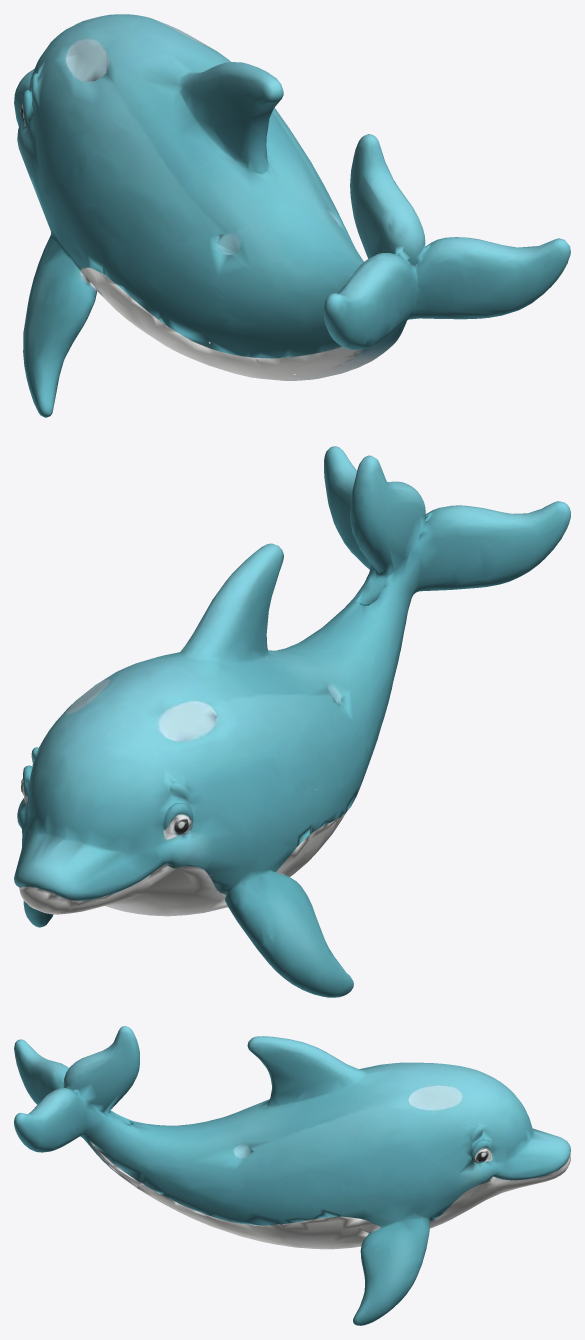
The model's file is delfin.glb.
3 views of the same model, one above another, from view 1: azimuth 30°, elevation 25°; view 2: azimuth 150°, elevation 25°; view 3: azimuth 270°, elevation 25° (orthographic). The views are drawn at different scales.
Parts seen in each view (by area): view 1: tripo_node_f25e41e3-0129-4c51-acdd-15e4373f0f35; view 2: tripo_node_f25e41e3-0129-4c51-acdd-15e4373f0f35; view 3: tripo_node_f25e41e3-0129-4c51-acdd-15e4373f0f35.
Part boxes in pixels (left/top/right/bottom): tripo_node_f25e41e3-0129-4c51-acdd-15e4373f0f35: left=14, top=14, right=570, bottom=417; tripo_node_f25e41e3-0129-4c51-acdd-15e4373f0f35: left=14, top=446, right=570, bottom=997; tripo_node_f25e41e3-0129-4c51-acdd-15e4373f0f35: left=14, top=1026, right=570, bottom=1325.
Bounding box in the file's own units: 0.4357 × 0.4954 × 0.9994.
Materials: 1 (1 with a texture image).
